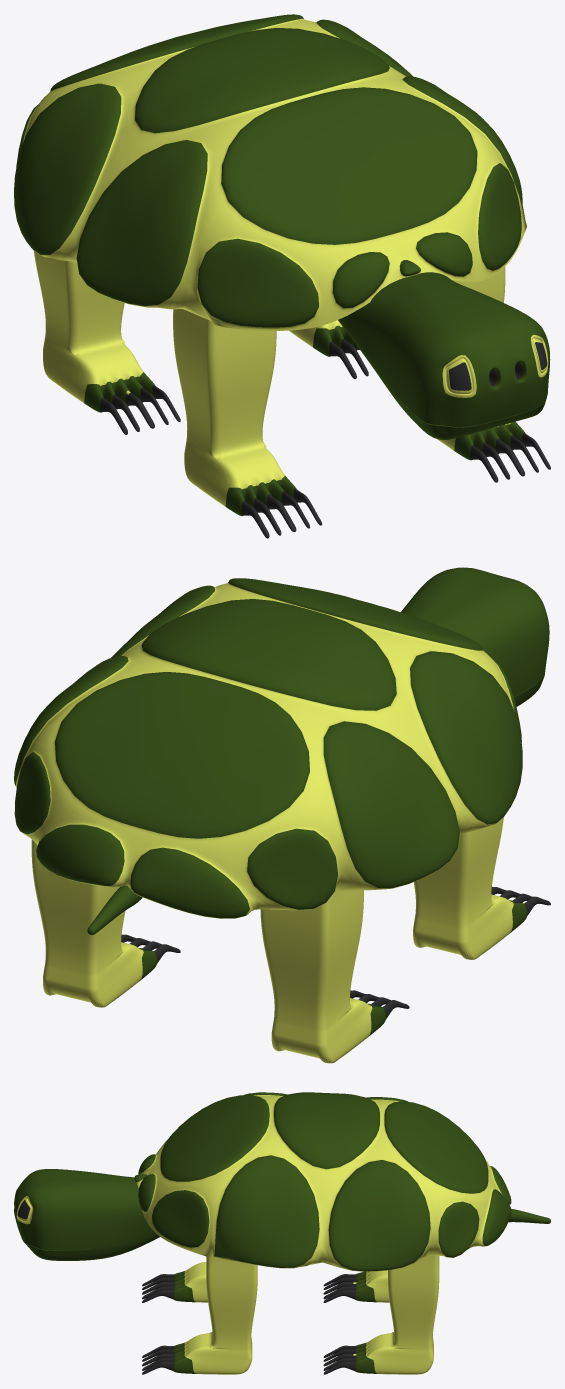
File: yirtici_ayak.fbx
3 renders of one model, top to bottom at view 1: azimuth 30°, elevation 25°; view 2: azimuth 150°, elevation 25°; view 3: azimuth 270°, elevation 25°, orthographic. The views are drawn at different scales.
Parts seen in each view (by area): view 1: Plane, Cube, Cube.001, Cube.002, Cube.003, Cube.004; view 2: Plane, Cube.002, Cube.004, Cube, Cube.001, Cube.005; view 3: Plane, Cube, Cube.003, Cube.004, Cube.001, Cube.002, Cube.005.
Part boxes in pixels (x1,y1,x2,y2): Plane: (14, 14, 526, 330); Cube: (338, 272, 550, 439); Cube.001: (173, 309, 322, 538); Cube.002: (34, 251, 180, 434); Cube.003: (437, 267, 550, 482); Cube.004: (289, 320, 368, 379); Plane: (14, 578, 522, 918); Cube.002: (260, 890, 409, 1063); Cube.004: (31, 839, 180, 1007); Cube: (401, 567, 549, 706); Cube.001: (413, 817, 550, 959); Cube.005: (87, 885, 142, 935); Plane: (134, 1092, 511, 1271); Cube: (14, 1169, 159, 1260); Cube.003: (142, 1256, 257, 1374); Cube.004: (323, 1255, 439, 1374); Cube.001: (142, 1262, 207, 1302); Cube.002: (323, 1270, 389, 1302); Cube.005: (508, 1209, 550, 1223).
Bounding box in the file's own units: 552 × 440 × 970.
